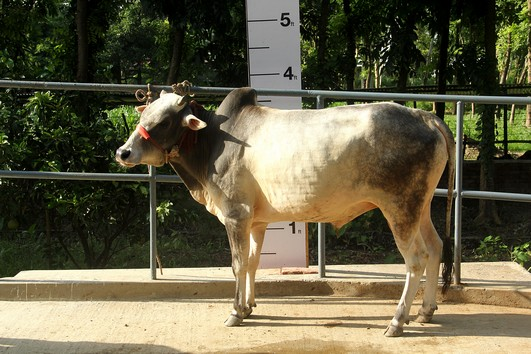cow: (110, 69, 469, 337)
